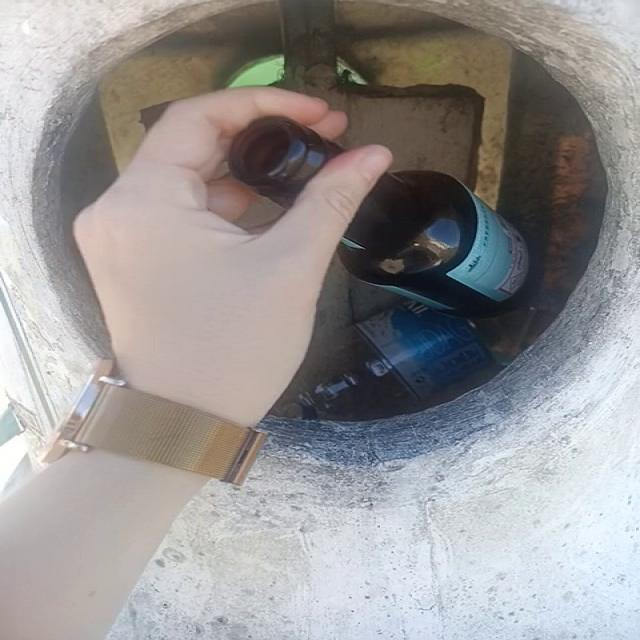Glass: (339, 171, 529, 317), (228, 116, 344, 208)
